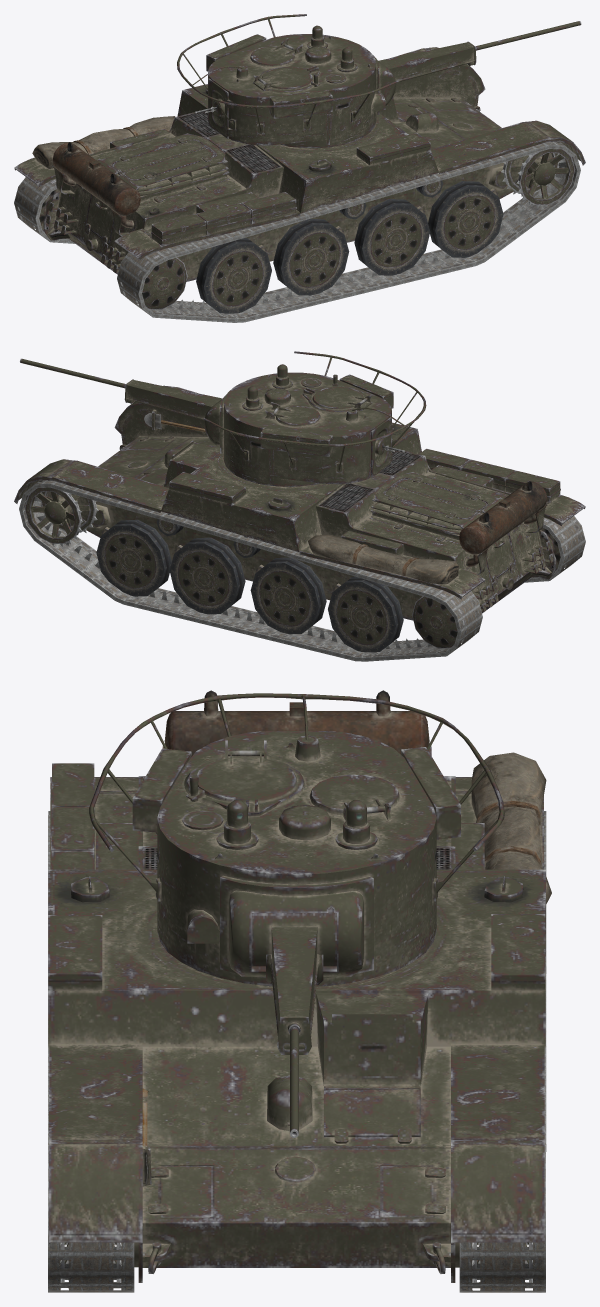
The picture shows the model from 3 angles, top to bottom: view 1: azimuth 30°, elevation 25°; view 2: azimuth 150°, elevation 25°; view 3: azimuth 270°, elevation 25°; orthographic projection. The views are drawn at different scales.
Visible parts, largest first — view 1: SM_hull_nc_01, SM_hull, SM_chassis_wheels.001, SM_chassis_track_R, SM_turret_02, SM_turret_02_nc_01, SM_gun_05_mask, SM_chassis_track_L, SM_gun_05; view 2: SM_hull_nc_01, SM_hull, SM_chassis_wheels.001, SM_chassis_track_L, SM_turret_02, SM_turret_02_nc_01, SM_gun_05_mask, SM_chassis_track_R, SM_gun_05; view 3: SM_hull, SM_hull_nc_01, SM_turret_02, SM_turret_02_nc_01, SM_gun_05_mask, SM_chassis_track_L, SM_chassis_track_R, SM_gun_05.
Part boxes in pixels (x1,y1,x2,y2): SM_hull_nc_01: (14,47,585,273); SM_hull: (56,84,518,281); SM_chassis_wheels.001: (30,149,575,313); SM_chassis_track_R: (117,141,580,322); SM_turret_02: (208,25,396,148); SM_turret_02_nc_01: (177,14,398,136); SM_gun_05_mask: (378,41,476,81); SM_chassis_track_L: (14,177,75,243); SM_gun_05: (475,21,581,50); SM_hull_nc_01: (14,385,585,612); SM_hull: (81,422,543,620); SM_chassis_wheels.001: (24,487,568,652); SM_chassis_track_L: (19,480,482,661); SM_turret_02: (204,364,391,486); SM_turret_02_nc_01: (203,351,426,472); SM_gun_05_mask: (124,379,222,419); SM_chassis_track_R: (525,516,585,582); SM_gun_05: (20,358,125,388); SM_hull: (48,776,545,1267); SM_hull_nc_01: (48,690,551,1282); SM_turret_02: (157,731,436,986); SM_turret_02_nc_01: (89,693,504,943); SM_gun_05_mask: (251,908,336,1054); SM_chassis_track_L: (459,811,546,1292); SM_chassis_track_R: (48,811,134,1292); SM_gun_05: (290,1027,298,1137).
Size of the model in its own units: 6.37 by 2.45 by 2.76.
Materials: 2 (2 with a texture image).
